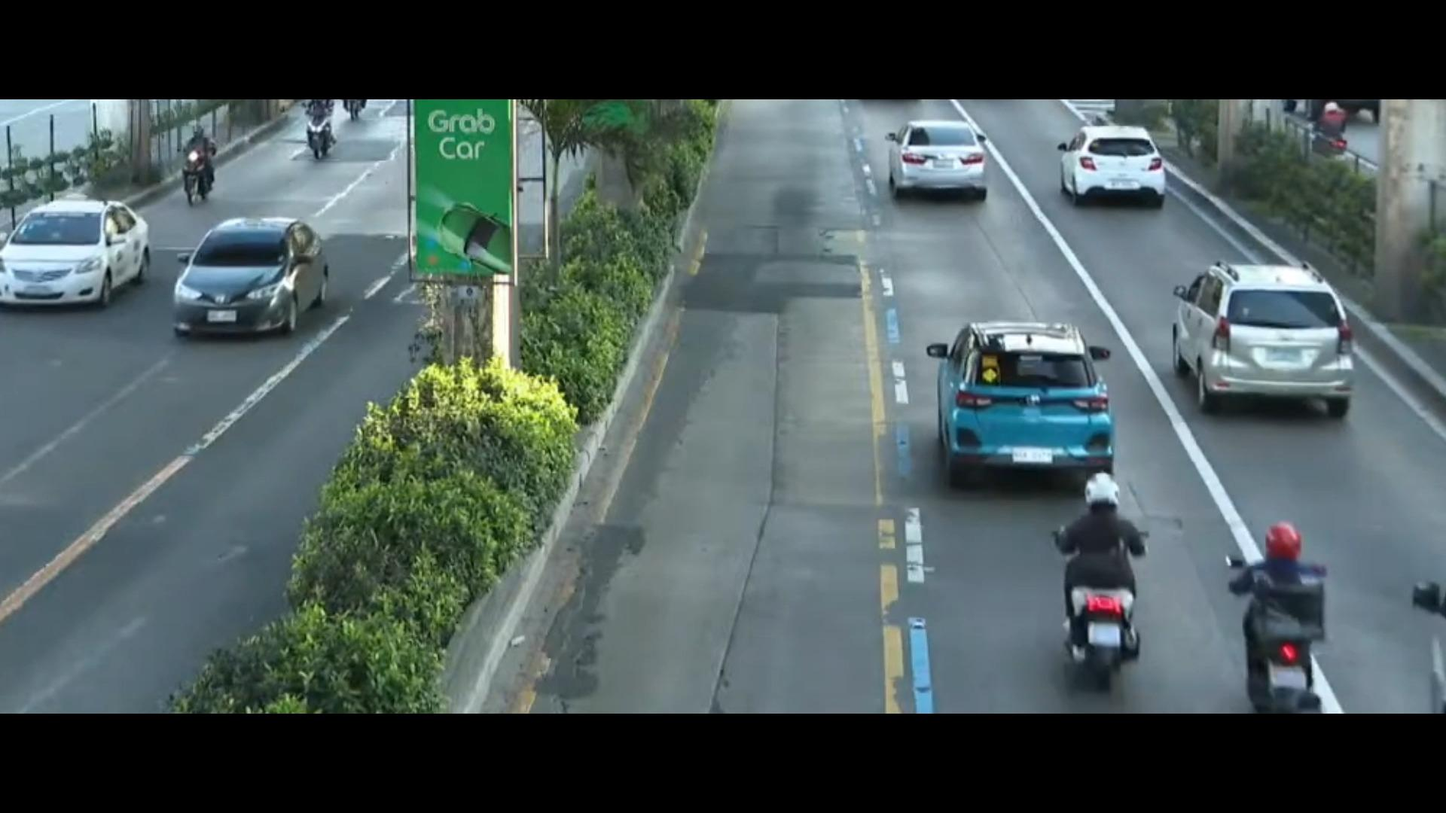Motorcycle: (1198, 486, 1358, 717), (1025, 445, 1152, 688), (159, 125, 236, 208), (284, 100, 351, 161)
SUV: (900, 301, 1128, 482), (1156, 256, 1379, 422)
Sedan: (167, 217, 330, 342), (0, 194, 155, 313), (863, 104, 1009, 224), (1045, 115, 1179, 199)
